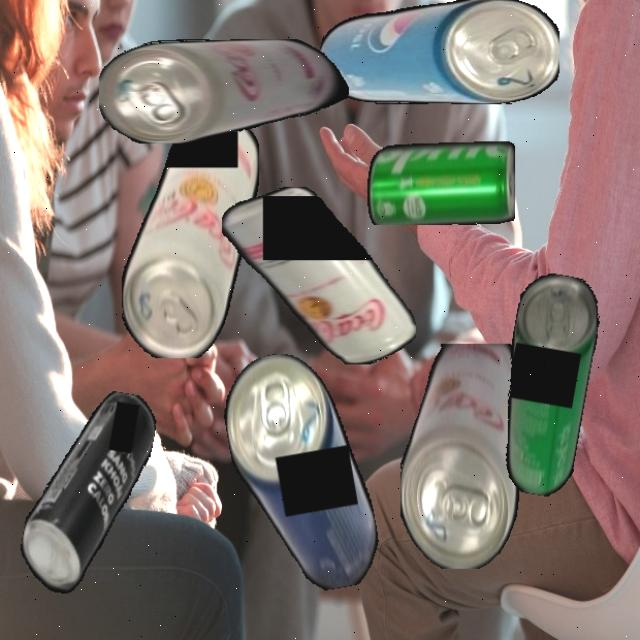debris: (216, 343, 385, 602), (221, 187, 416, 364), (121, 113, 259, 358), (13, 381, 160, 610), (487, 270, 606, 500), (99, 38, 355, 144), (400, 342, 519, 568), (318, 0, 559, 104), (367, 140, 515, 225)
